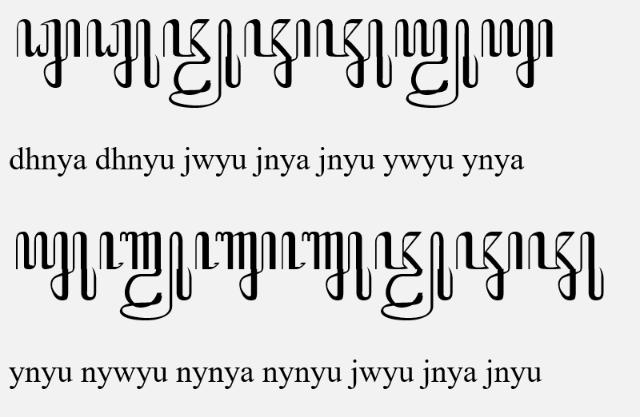dhny: (15, 18, 80, 90)
dhnyu: (86, 19, 160, 89)
jny: (243, 17, 311, 88), (455, 232, 523, 302)
jnyu: (315, 18, 393, 90), (528, 230, 604, 302)
jwyu: (374, 230, 454, 322), (162, 18, 242, 108)
nyny: (195, 232, 277, 301)
nynyu: (280, 232, 372, 302)
nywyu: (100, 230, 192, 322)
yny: (481, 17, 554, 88)
ynyu: (14, 232, 98, 302)
ywyu: (395, 18, 479, 108)
